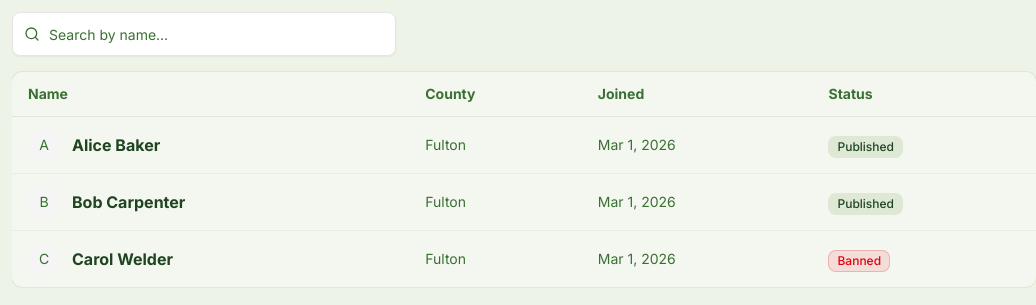
ADMIN-02 — MembersTable filters by display_name › shows zero-results state when query matches no rows
Type "zzzzz" into the field named "Search members by display name".
click(204, 34); type("zzzzz")  # box [12,12,396,56]
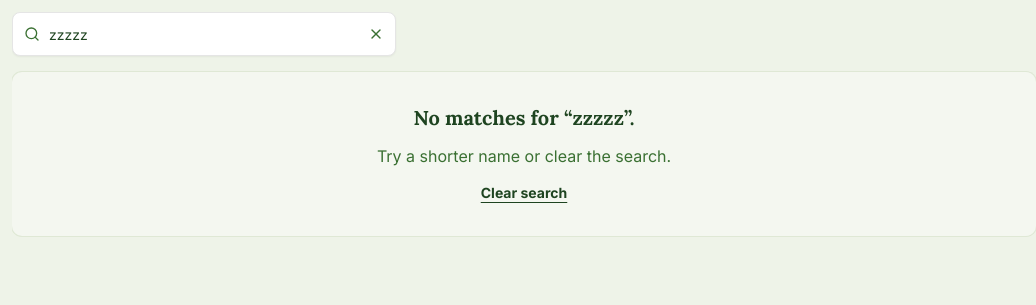
Expected: the heading "No matches for “zzzzz”." is shown, [414,105,634,130]
